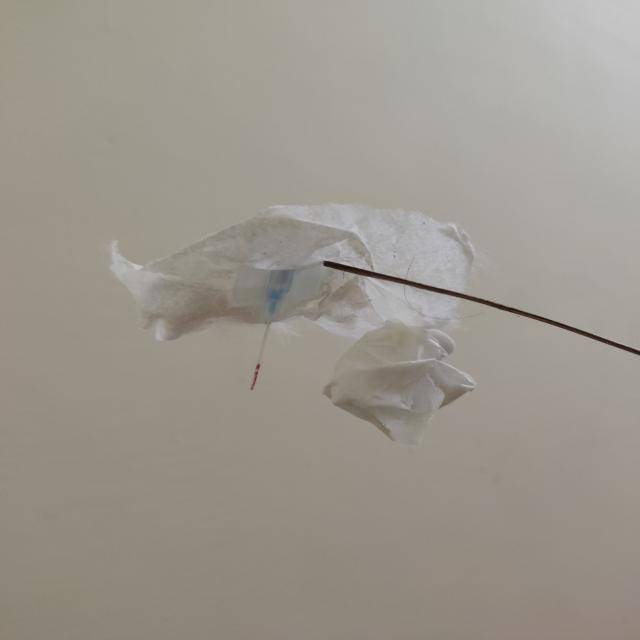B3: (247, 269, 298, 391)
